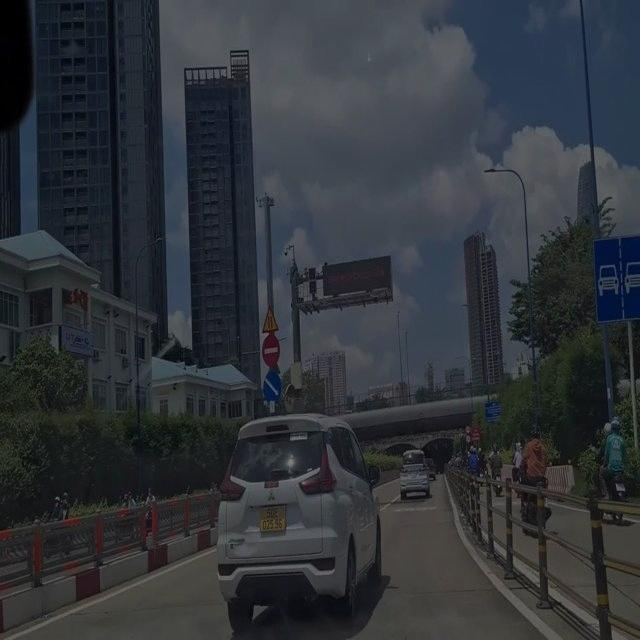Cấm đi ngược chiều: (261, 332, 281, 368)
Hướng phải đi vòng sang phải: (262, 366, 280, 397)
Đường hẹp: (260, 302, 281, 332)
